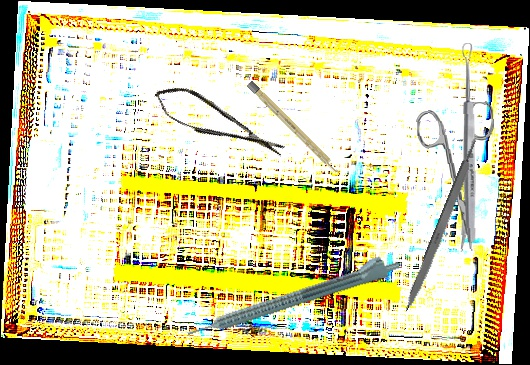Handpiece: (182, 248, 402, 342)
Iris Scissors: (415, 100, 503, 255)
Micro Scissor: (148, 76, 290, 171)
Scalpel Handle: (402, 135, 484, 315), (246, 80, 342, 176)
Surgical Spoon: (461, 42, 478, 243)
